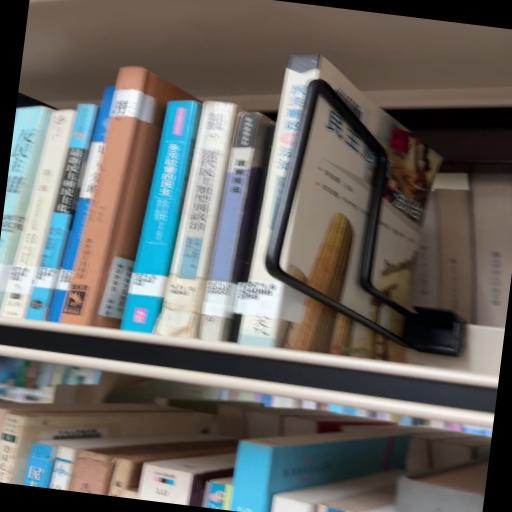reverse: (62, 67, 201, 329)
